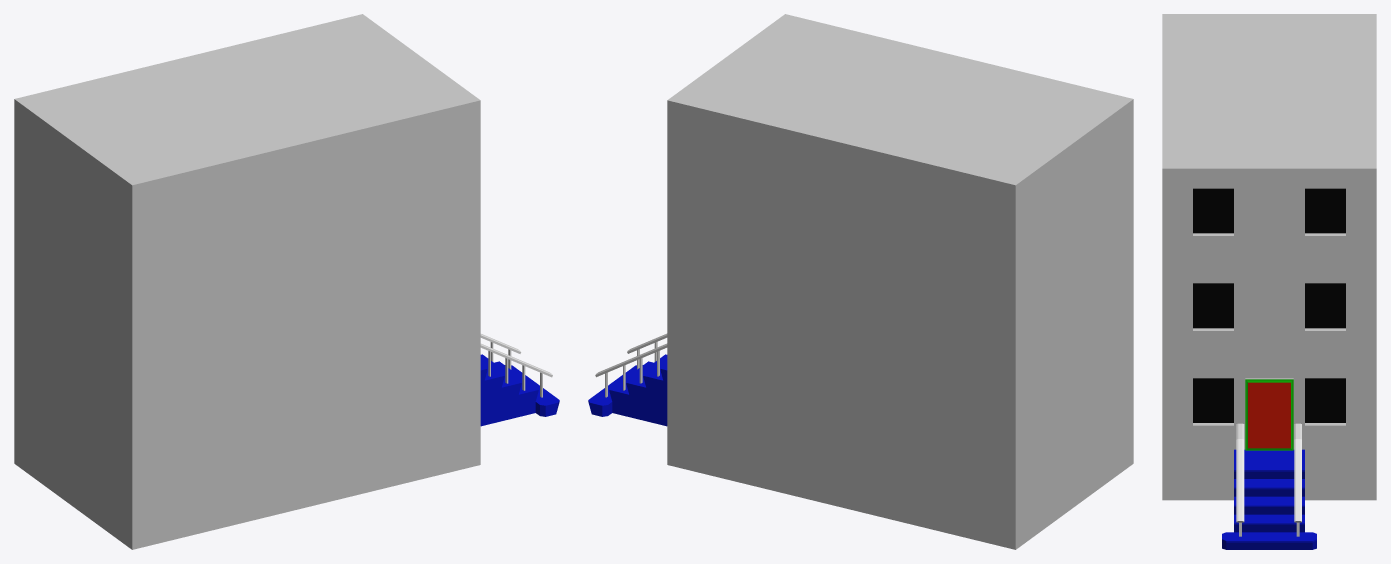
File: House.fbx
3 views of the same model, side by side, from view 1: azimuth 30°, elevation 25°; view 2: azimuth 150°, elevation 25°; view 3: azimuth 270°, elevation 25° (orthographic). The views are drawn at different scales.
Visible parts, largest first — view 1: Cube; view 2: Cube; view 3: Cube, Cube.001, Cube.014.
Boxes of the visible parts, x1,y1,x2,y2 form: Cube: (14,14,559,549); Cube: (588,14,1133,549); Cube: (1162,14,1376,549); Cube.001: (1236,423,1244,522); Cube.014: (1294,423,1301,522).
Size of the model in its own units: 1088 by 820 by 480.
